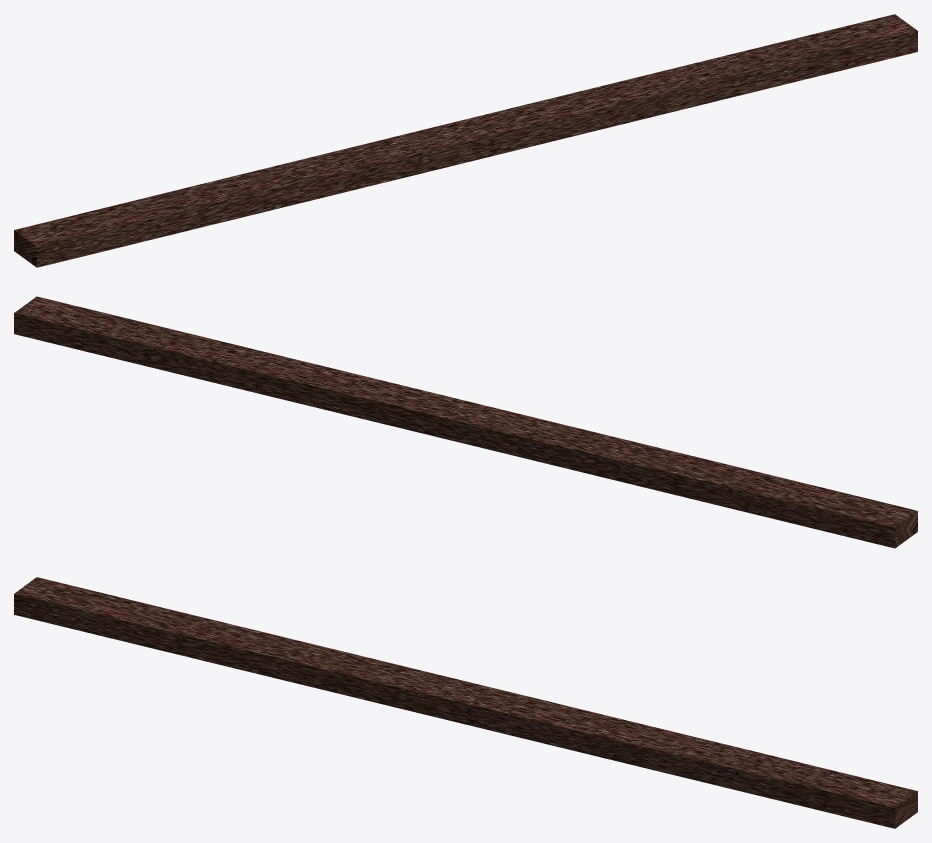
File: wall_shelf.dae
The picture shows the model from 3 angles, top to bottom: view 1: azimuth 30°, elevation 25°; view 2: azimuth 150°, elevation 25°; view 3: azimuth 330°, elevation 25°; orthographic projection.
Parts seen in each view (by area): view 1: obj1; view 2: obj1; view 3: obj1.
Part boxes in pixels (x1,y1,x2,y2): obj1: (14, 14, 917, 267); obj1: (14, 296, 917, 548); obj1: (14, 577, 917, 828).
Bounding box in the file's own units: 173 × 8.06 × 3.98.
